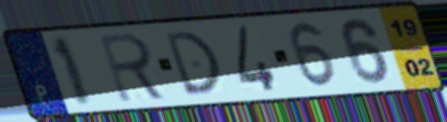1: (49, 34, 96, 109)
4: (236, 24, 278, 94)
6: (339, 15, 392, 86), (287, 20, 339, 89)
D: (161, 28, 225, 98)
R: (96, 30, 172, 105)
